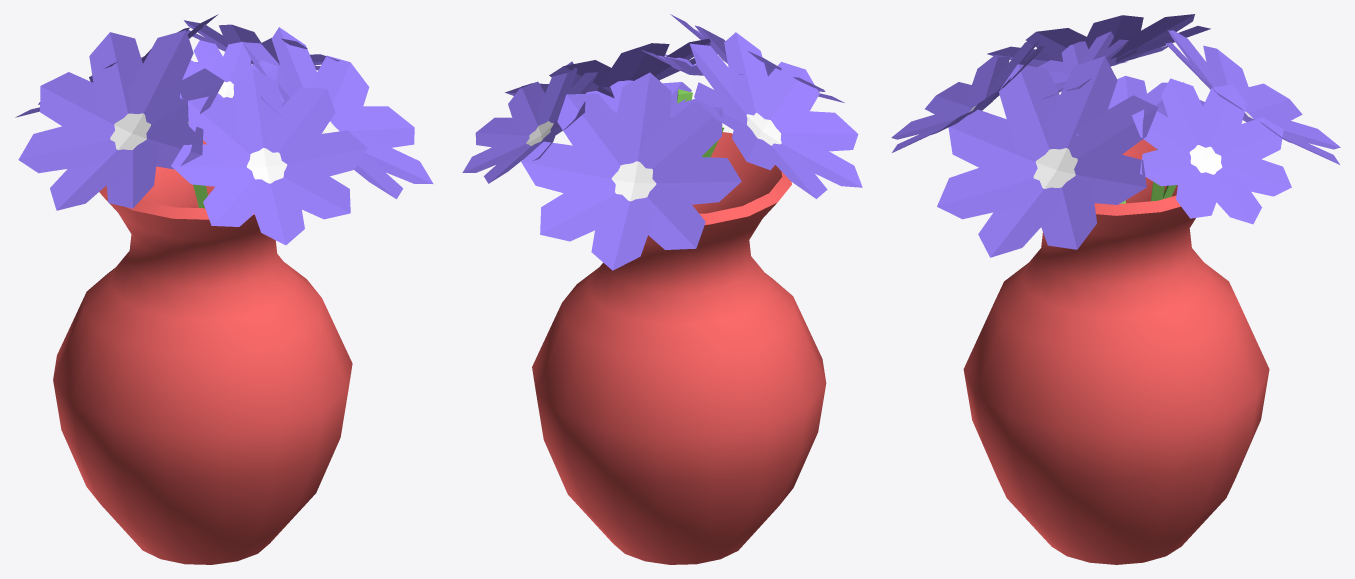
The model's file is Vase.fbx.
The picture shows the model from 3 angles, left to right: view 1: azimuth 30°, elevation 25°; view 2: azimuth 150°, elevation 25°; view 3: azimuth 270°, elevation 25°; orthographic projection. The views are drawn at different scales.
Visible parts, largest first — view 1: Vase; view 2: Vase; view 3: Vase.
Part boxes in pixels (x1,y1,x2,y2): Vase: [15, 14, 433, 564]; Vase: [462, 14, 862, 564]; Vase: [891, 14, 1340, 564].
Size of the model in its own units: 225 by 304 by 242.
